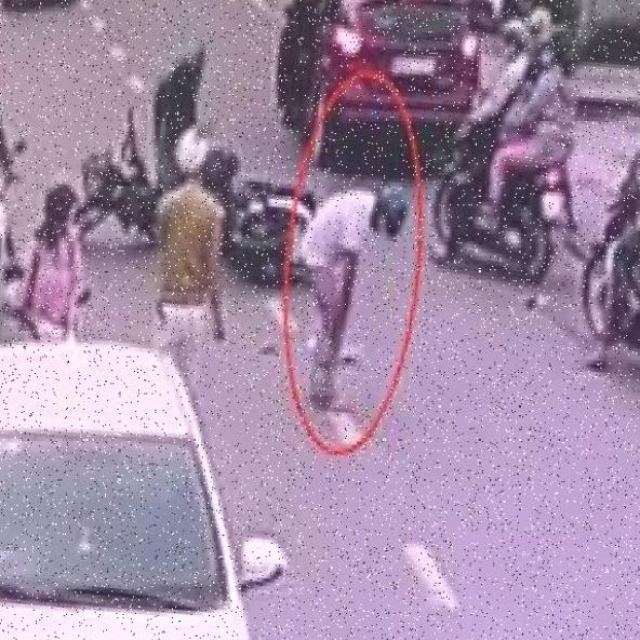accident: (88, 99, 336, 289)
